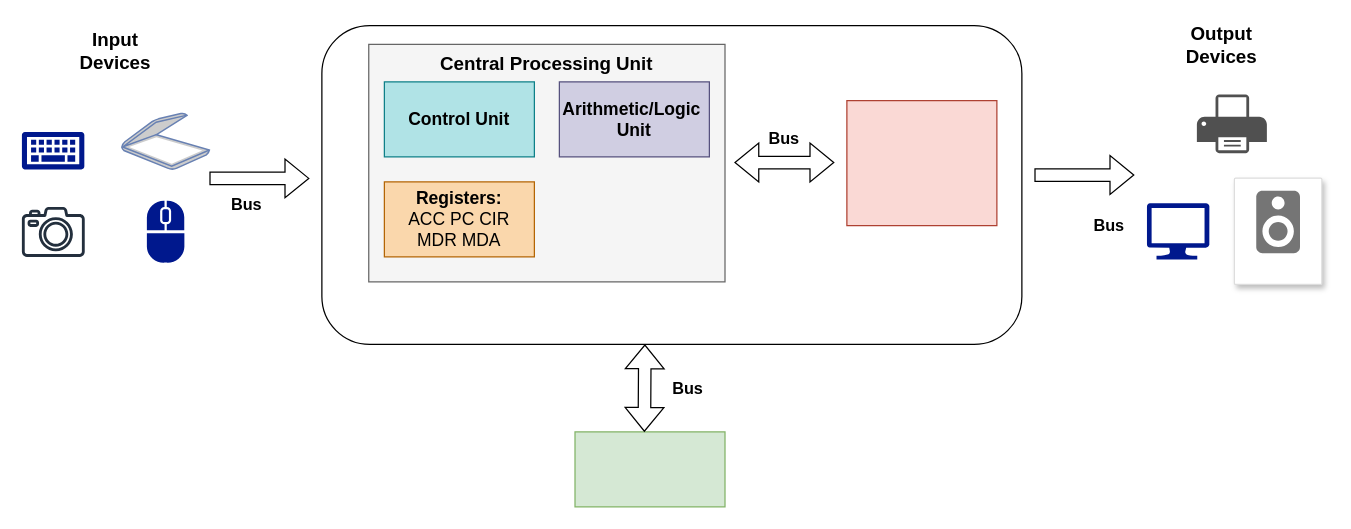
This 1351x529 diagram has some shape labels left out. The shapes that lost their labels are listed below. From the top down, each one's centre as x and y in pixels, then its label:
At pixel 921 162: "Main Memory: Instructions Data".
At pixel 649 469: "Secundary Memory".
